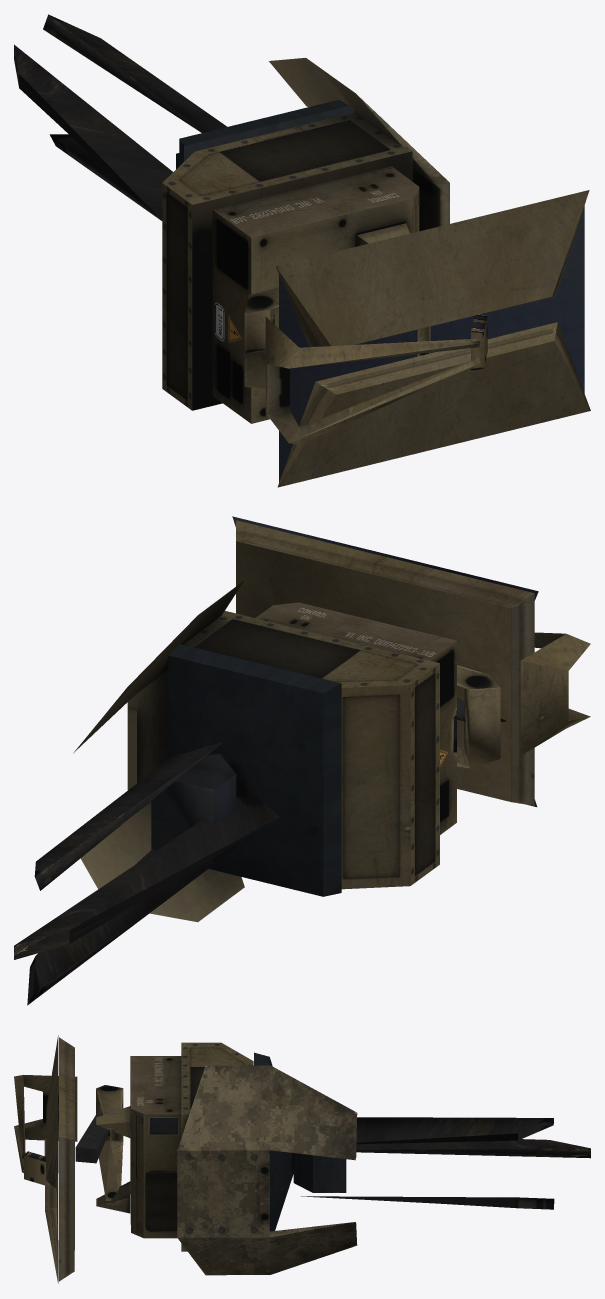
Rendered from t6_wpn_turret_ads_carry_red_LOD2.obj.
3 renders of one model, top to bottom at view 1: azimuth 30°, elevation 25°; view 2: azimuth 150°, elevation 25°; view 3: azimuth 270°, elevation 25°, orthographic. The views are drawn at different scales.
Parts seen in each view (by area): view 1: mtl_t6_wpn_turret_ads_red; view 2: mtl_t6_wpn_turret_ads_red; view 3: mtl_t6_wpn_turret_ads_red.
Boxes of the visible parts, x1,y1,x2,y2 form: mtl_t6_wpn_turret_ads_red: (14, 14, 590, 487); mtl_t6_wpn_turret_ads_red: (14, 516, 590, 1005); mtl_t6_wpn_turret_ads_red: (14, 1035, 590, 1283).
Bounding box in the file's own units: 70.07 × 62.72 × 156.
